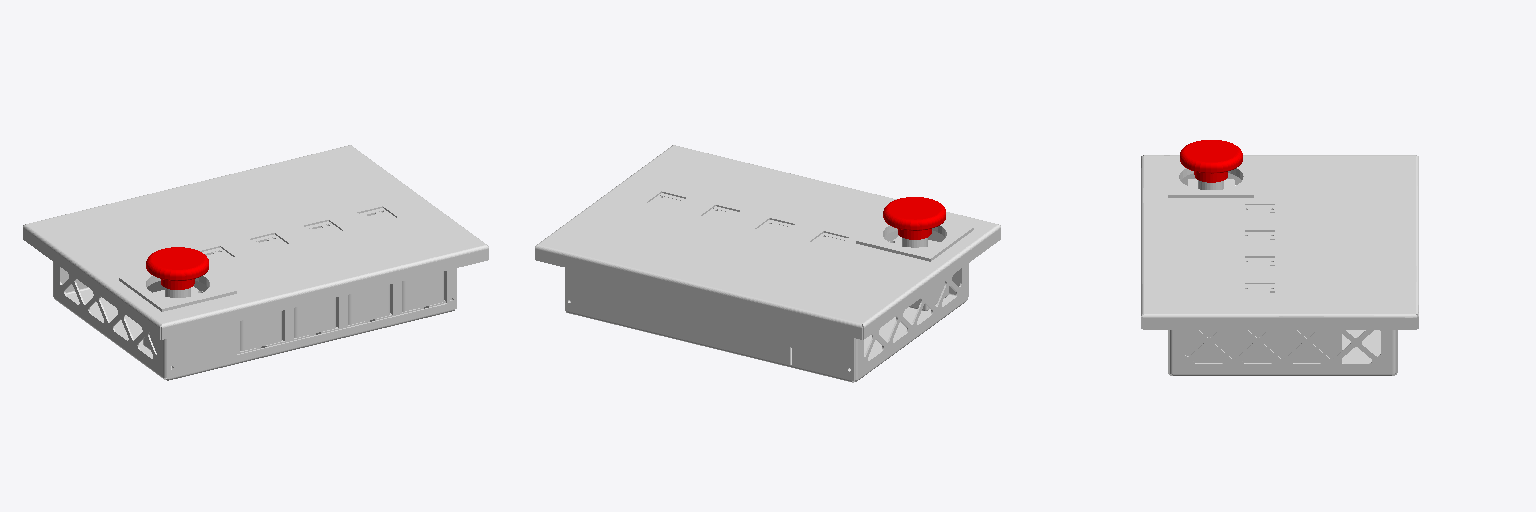
The model's file is BatBox.obj.
3 renders of one model, left to right at view 1: azimuth 30°, elevation 25°; view 2: azimuth 150°, elevation 25°; view 3: azimuth 270°, elevation 25°, orthographic.
Visible parts, largest first — view 1: mesh273, mesh374, mesh286, mesh498, mesh261, mesh282, mesh590, mesh106, mesh14, mesh44, mesh29, mesh59 (+6 smaller); view 2: mesh273, mesh388, mesh269, mesh498, mesh261, mesh266, mesh590, mesh214, mesh112, mesh404, mesh258, mesh113 (+1 smaller); view 3: mesh273, mesh411, mesh71, mesh278, mesh590, mesh214, mesh274, mesh112, mesh404, mesh113.
Part boxes in pixels (x1,y1,x2,y2): mesh273: (26,146,484,323); mesh374: (167,268,456,378); mesh286: (162,249,488,339); mesh498: (54,263,162,376); mesh261: (23,228,159,338); mesh282: (162,245,488,327); mesh590: (119,270,235,308); mesh106: (237,282,419,353); mesh14: (352,285,387,323); mesh44: (406,272,441,310); mesh29: (298,298,332,337); mesh59: (244,312,278,350); mesh273: (539,146,997,323); mesh388: (565,268,853,380); mesh269: (535,249,861,339); mesh498: (858,264,967,378); mesh261: (864,228,1000,338); mesh266: (535,245,861,327); mesh590: (856,220,973,258); mesh214: (648,195,843,247); mesh112: (889,197,940,219); mesh404: (791,295,953,369); mesh258: (862,225,1000,327); mesh113: (883,197,945,226); mesh273: (1144,156,1415,313); mesh411: (1173,330,1391,373); mesh71: (1185,330,1341,362); mesh278: (1143,318,1416,329); mesh590: (1168,159,1253,194); mesh214: (1245,205,1274,294); mesh274: (1143,314,1416,317); mesh112: (1185,140,1237,161); mesh404: (1342,330,1380,362); mesh113: (1180,140,1242,168).
Bounding box in the file's own units: 0.3532 × 0.1022 × 0.2582.